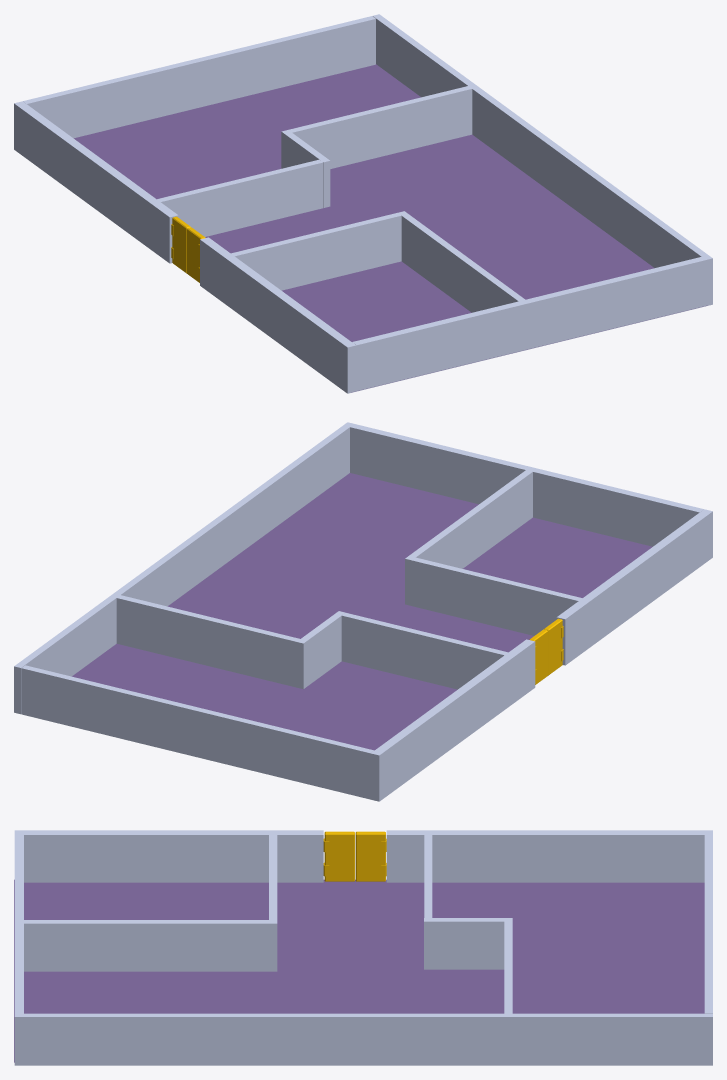
Rendered from maps56.fbx.
The picture shows the model from 3 angles, top to bottom: view 1: azimuth 30°, elevation 25°; view 2: azimuth 150°, elevation 25°; view 3: azimuth 270°, elevation 25°; orthographic projection. The views are drawn at different scales.
Parts seen in each view (by area): view 1: wall_01_08_geo, wall_01_05_geo, wall_01_09_geo19, wall_01_06_geo1, wall_01_07_geo1, wall_01_07_geo, wall_01_09_geo23, wall_01_09_geo16, wall_01_09_geo15, wall_01_09_geo22, wall_01_09_geo20, polySurface161 (+1 smaller); view 2: wall_01_08_geo, wall_01_09_geo19, wall_01_06_geo1, wall_01_05_geo, wall_01_09_geo23, wall_01_07_geo1, wall_01_07_geo, wall_01_09_geo16, wall_01_09_geo15, wall_01_09_geo22, wall_01_09_geo20, polySurface165 (+1 smaller); view 3: wall_01_08_geo, wall_01_06_geo1, wall_01_07_geo1, wall_01_07_geo, wall_01_09_geo22, wall_01_09_geo20, wall_01_05_geo, wall_01_09_geo19, polySurface161, polySurface165, wall_01_09_geo23, wall_01_09_geo16 (+1 smaller).
Boxes of the visible parts, x1,y1,x2,y2 form: wall_01_08_geo: (74,64,707,392); wall_01_05_geo: (352,257,705,391); wall_01_09_geo19: (23,16,375,138); wall_01_06_geo1: (373,14,712,306); wall_01_07_geo1: (14,101,178,263); wall_01_07_geo: (200,237,356,393); wall_01_09_geo23: (281,86,472,168); wall_01_09_geo16: (231,213,401,290); wall_01_09_geo15: (157,159,323,236); wall_01_09_geo22: (398,211,525,312); wall_01_09_geo20: (285,133,330,207); polySurface161: (171,216,190,273); wall_01_08_geo: (72,473,652,750); wall_01_09_geo19: (21,665,374,799); wall_01_06_geo1: (14,422,353,714); wall_01_05_geo: (350,424,703,546); wall_01_09_geo23: (116,595,307,689); wall_01_07_geo1: (370,639,535,801); wall_01_07_geo: (556,509,712,665); wall_01_09_geo16: (411,557,582,635); wall_01_09_geo15: (341,613,508,689); wall_01_09_geo22: (405,470,532,605); wall_01_09_geo20: (300,611,345,685); polySurface165: (544,618,563,675); wall_01_08_geo: (14,879,704,1062); wall_01_06_geo1: (14,1013,712,1065); wall_01_07_geo1: (386,830,712,882); wall_01_07_geo: (14,830,323,882); wall_01_09_geo22: (23,920,277,971); wall_01_09_geo20: (424,918,504,969); wall_01_05_geo: (14,835,23,1013); wall_01_09_geo19: (704,835,712,1013); polySurface161: (355,831,386,881); polySurface165: (323,831,354,881); wall_01_09_geo23: (504,918,512,1013); wall_01_09_geo16: (269,835,277,919).
Bounding box in the file's own units: 73.34 × 8.89 × 116.
Materials: 2 (2 with a texture image).
